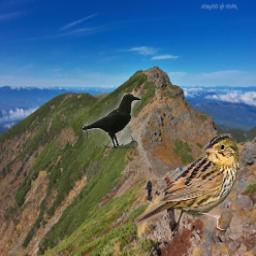Crow: (82, 93, 140, 148)
Sparrow: (133, 134, 242, 239)
